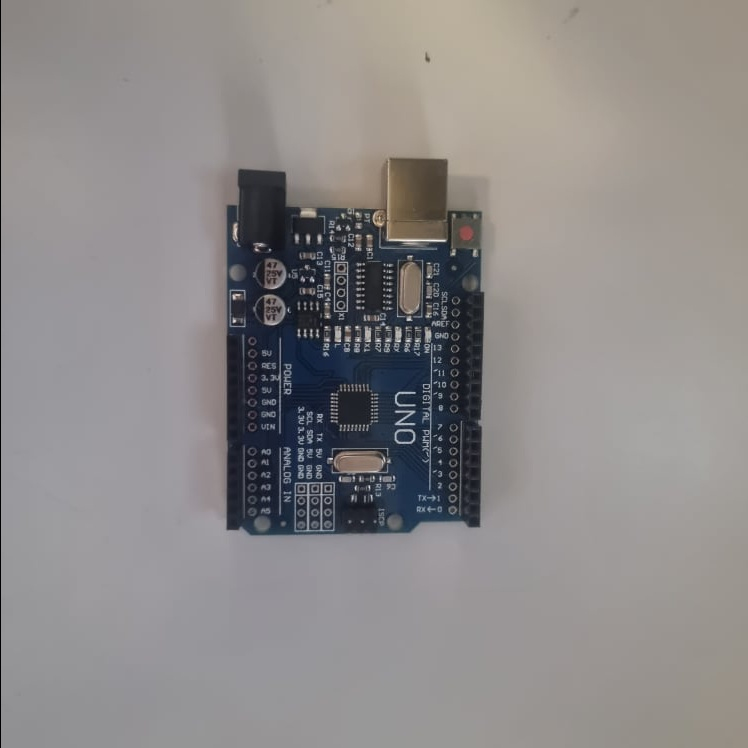UNO R3: (221, 158, 486, 540)
